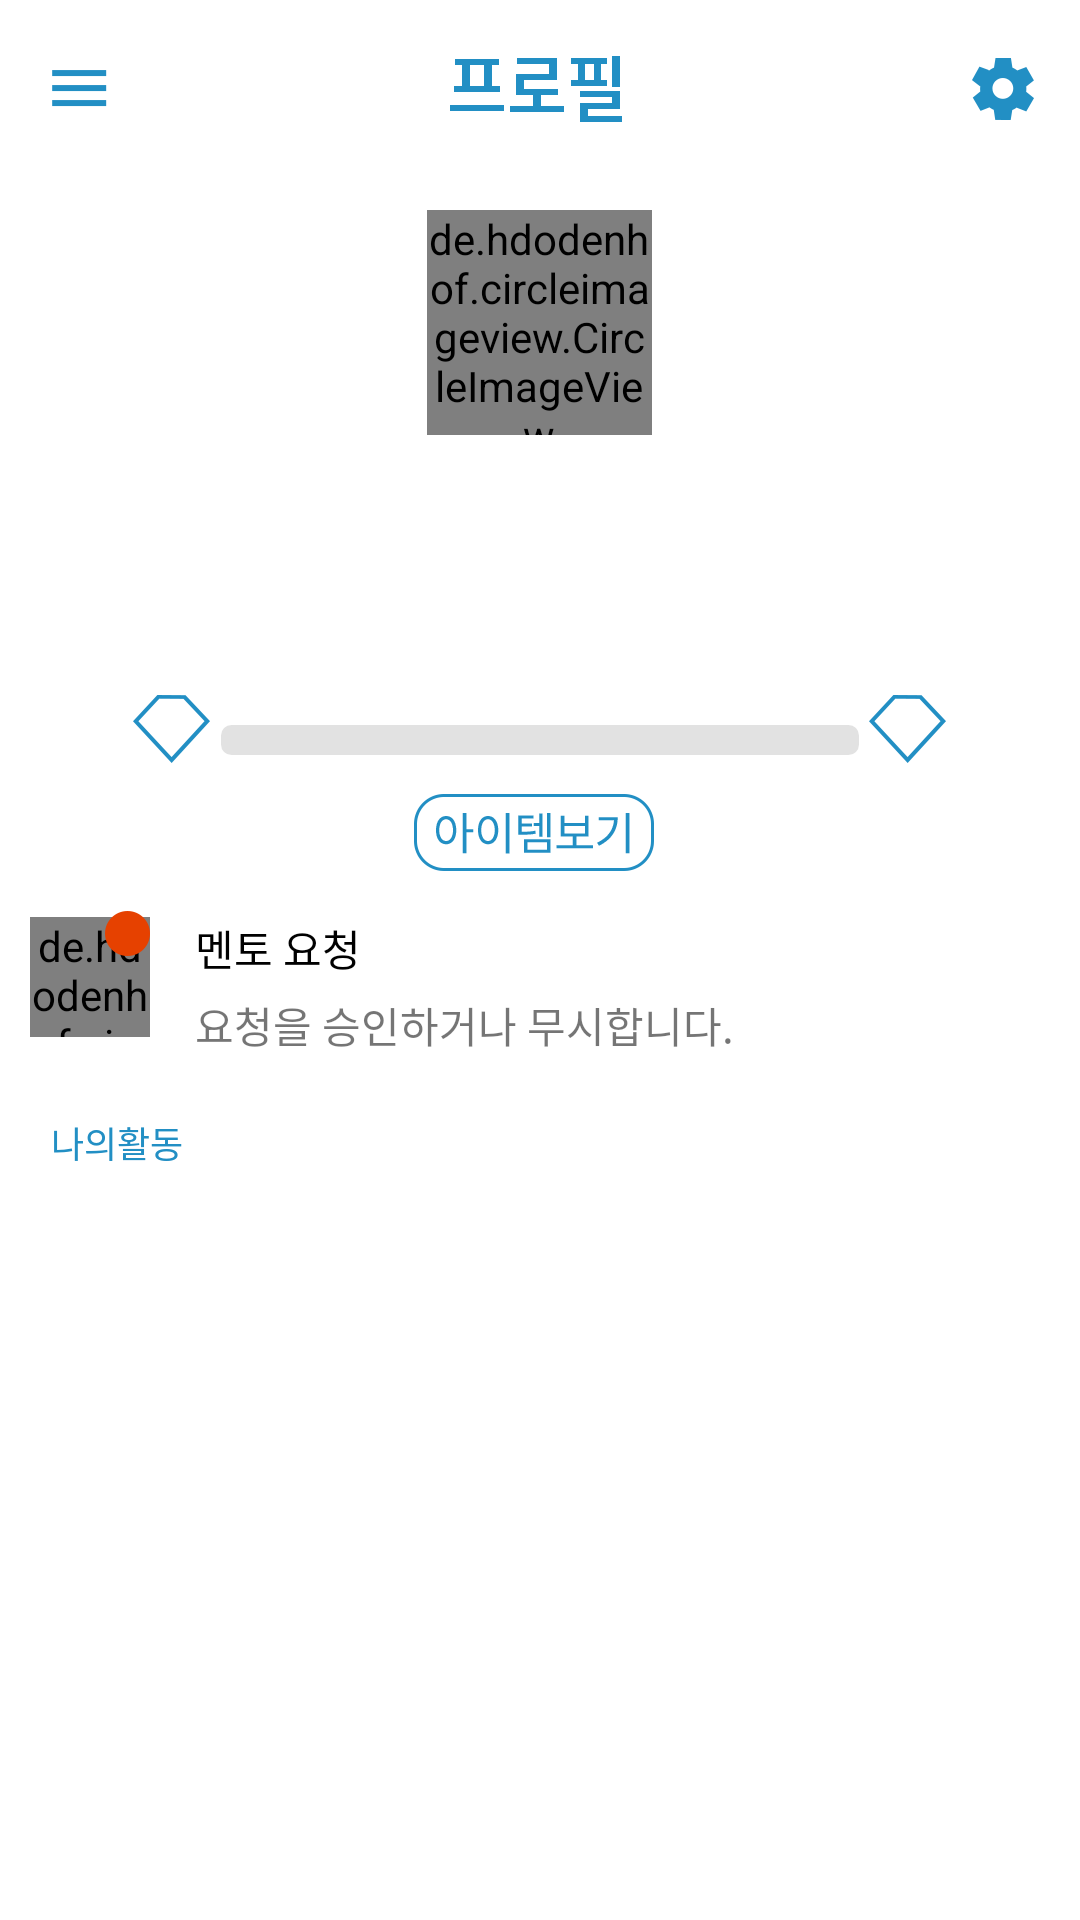

Named icons in this screenshot (1080 x 1920) and their centers, (x,y):
ham: (79,88)
uprofile cnt dia: (171,729), (907,729)
uprofile nav settings: (1003,89)
